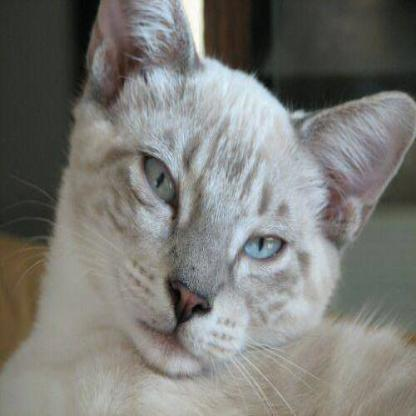cat: (71, 0, 370, 372)
